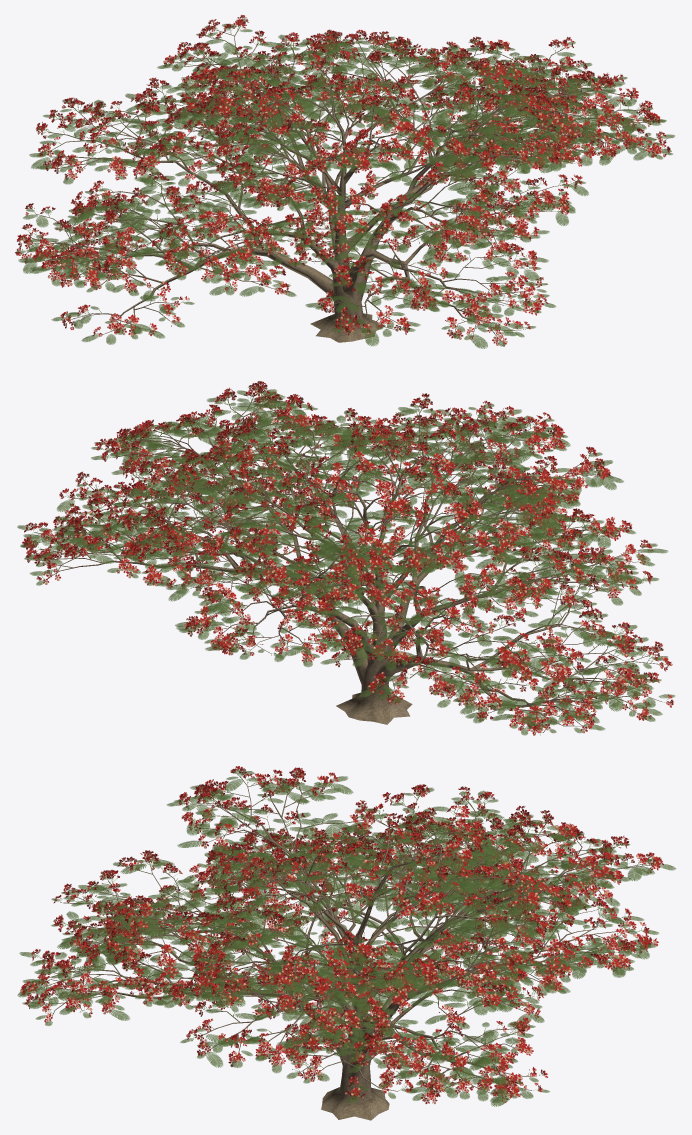
File: poinciana_hd1.glb
3 views of the same model, one above another, from view 1: azimuth 30°, elevation 25°; view 2: azimuth 150°, elevation 25°; view 3: azimuth 270°, elevation 25° (orthographic). The views are drawn at different scales.
Parts seen in each view (by area): view 1: Delonix_regia_HD_w; view 2: Delonix_regia_HD_w; view 3: Delonix_regia_HD_w.
Part boxes in pixels (x1=…): Delonix_regia_HD_w: x1=15, y1=15, x2=674, y2=348; Delonix_regia_HD_w: x1=17, y1=381, x2=675, y2=735; Delonix_regia_HD_w: x1=17, y1=766, x2=676, y2=1120.
Bounding box in the file's own units: 15.54 × 6.5 × 14.22.
Materials: 9 (9 with a texture image).
